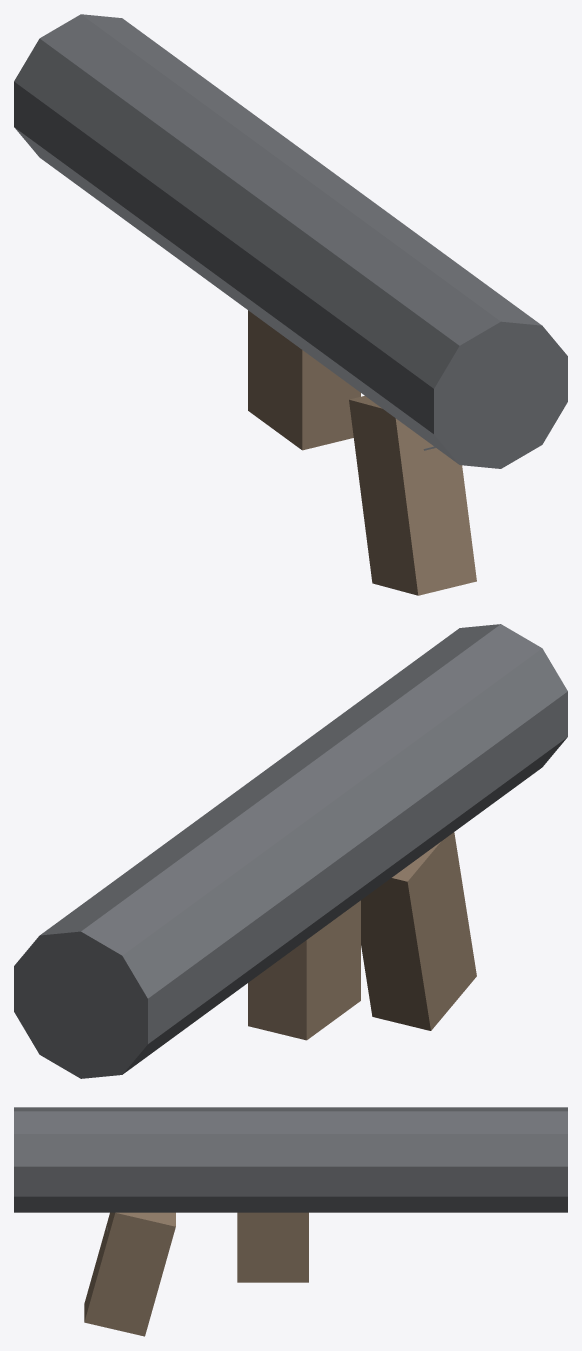
File: gun_launcher.glb
3 renders of one model, top to bottom at view 1: azimuth 30°, elevation 25°; view 2: azimuth 150°, elevation 25°; view 3: azimuth 270°, elevation 25°, orthographic. The views are drawn at different scales.
Parts seen in each view (by area): view 1: Gun_launcher; view 2: Gun_launcher; view 3: Gun_launcher.
Boxes of the visible parts, x1=… form: Gun_launcher: x1=14, y1=14, x2=567, y2=595; Gun_launcher: x1=14, y1=624, x2=567, y2=1078; Gun_launcher: x1=14, y1=1107, x2=567, y2=1336.
Size of the model in its own units: 0.1141 by 0.2665 by 0.62.
